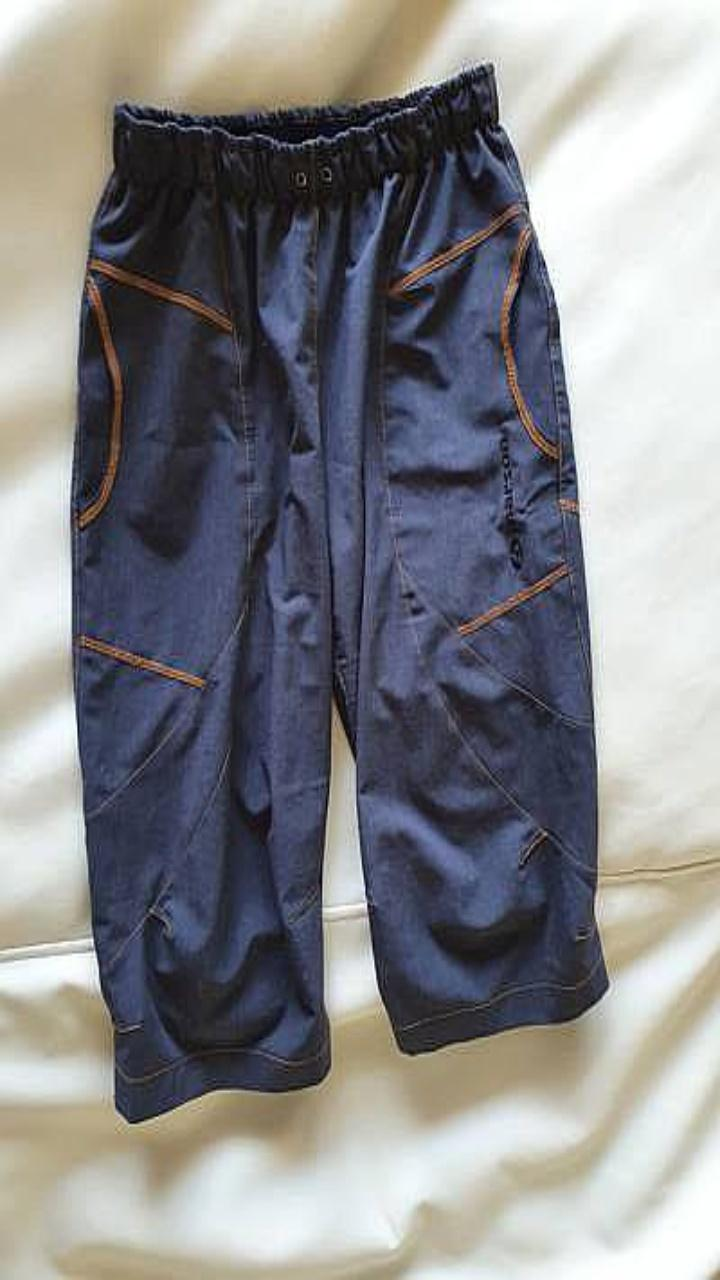Shorts: (71, 64, 607, 1121)
